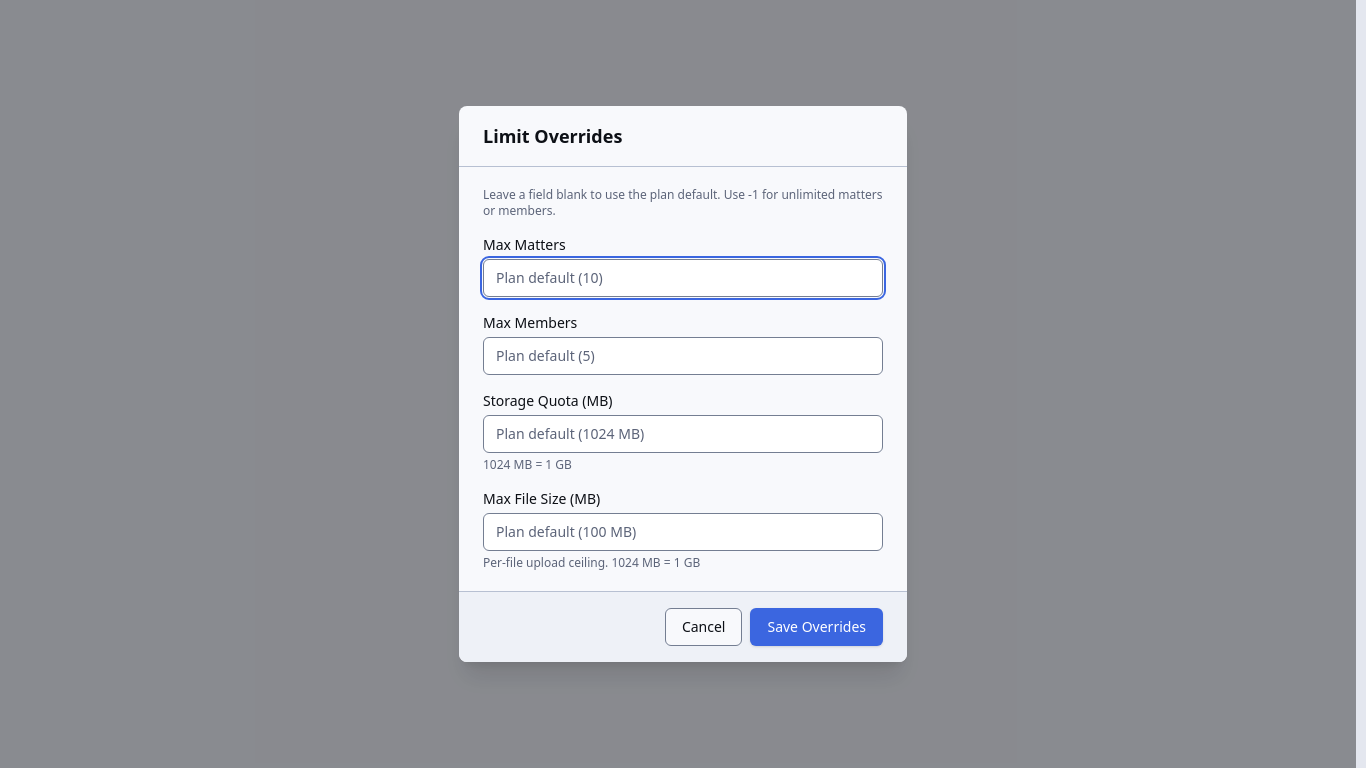
the Storage Quota (MB) field holding -5 › is refused in the form and never sent
The width and height of the screenshot is (1366, 768).
Type "-5" into the number field labelled "Storage Quota (MB)". click: (683, 434)
box: [483,415,883,453]
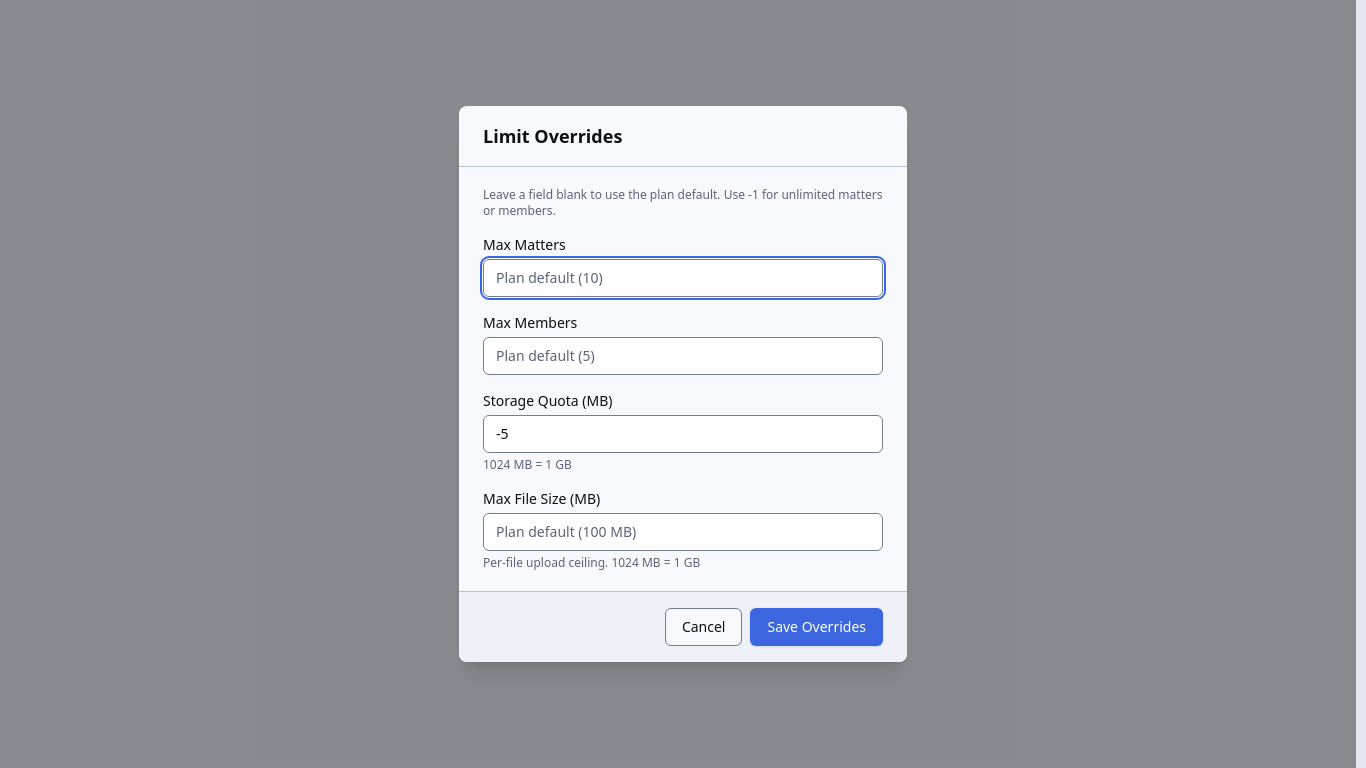
Click the button "Save Overrides". click: (817, 627)
box: [750,608,883,646]
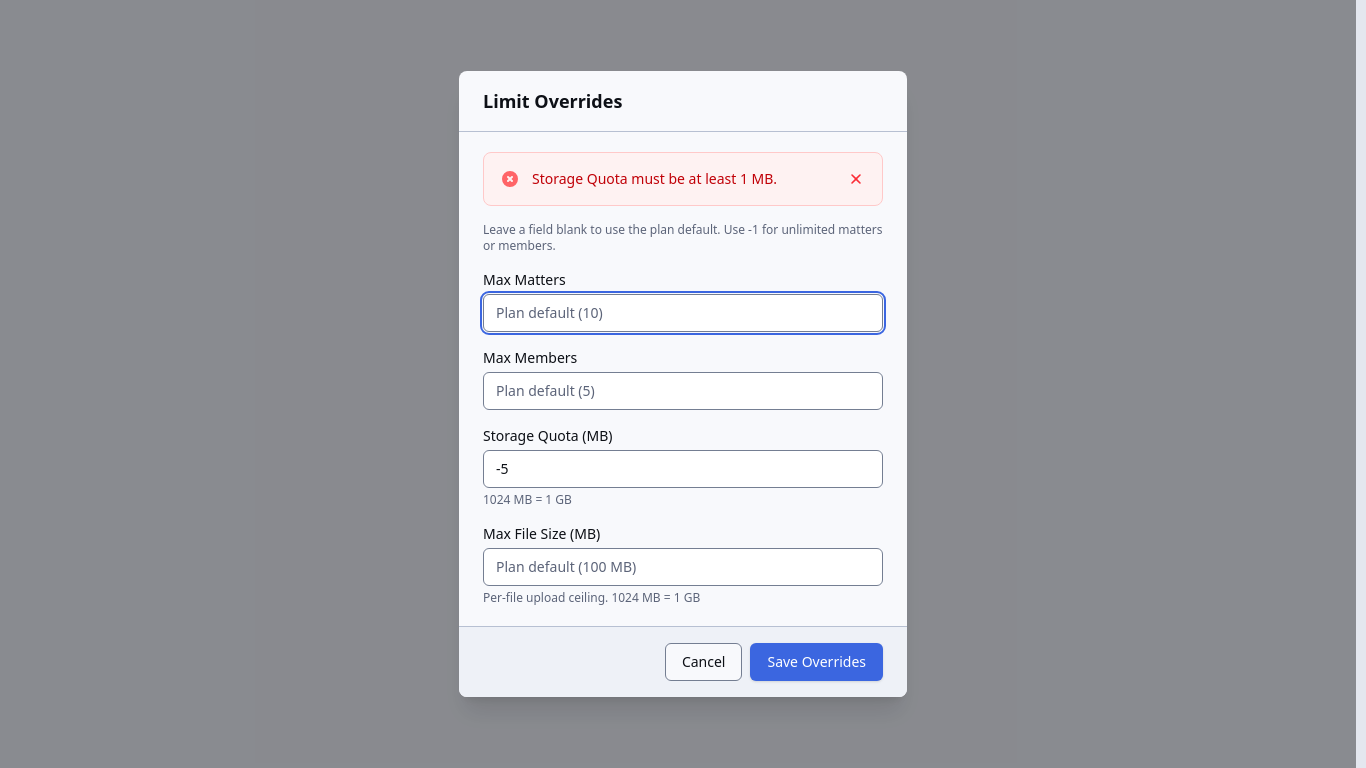
expect the message reads "Storage Quota must be at least 1 MB.": met, box [532,169,777,188]
